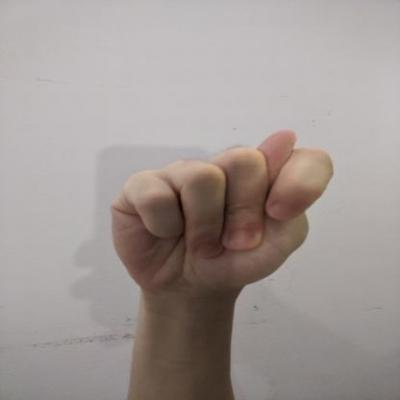hand: (104, 127, 337, 302)
